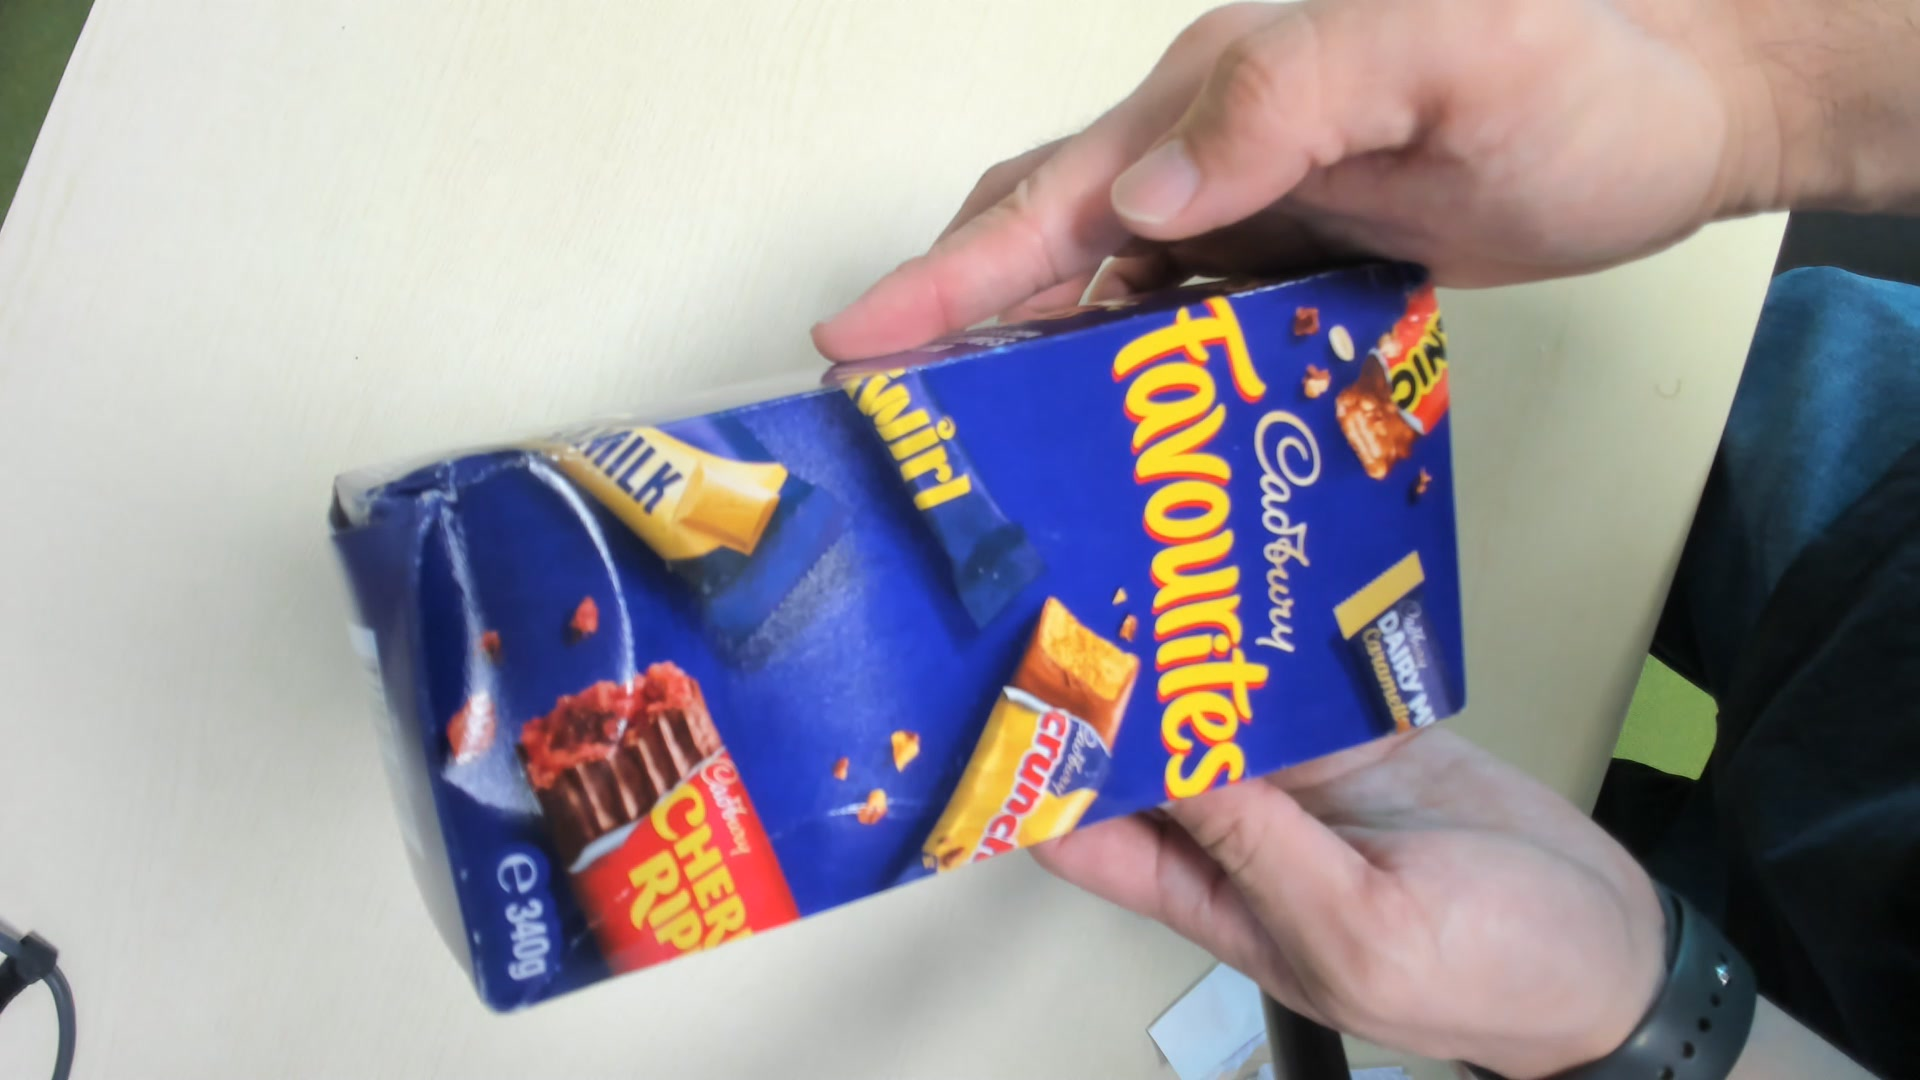SweetsChocolatesOthers_300-399g_NonHalal_Nonhealthy: (330, 262, 1476, 1004)
